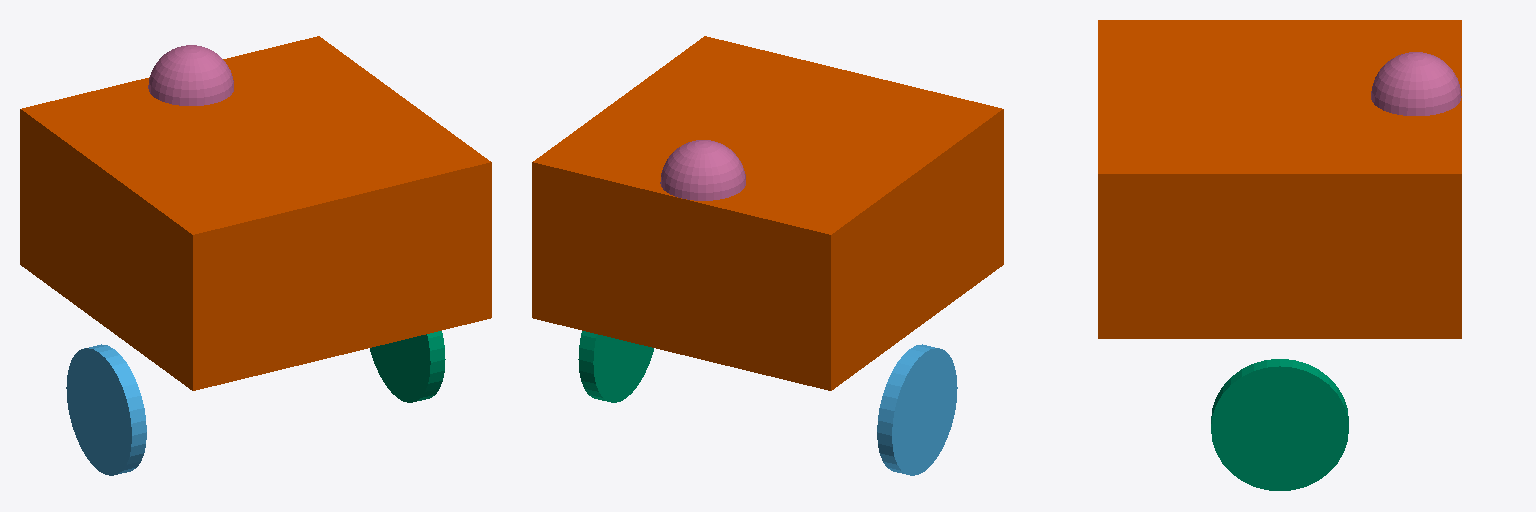
URDF robot description (robot):
<?xml version="1.0" ?>
<!-- =================================================================================== -->
<!-- |    This document was autogenerated by xacro from src/urdf_simulate/urdf/robot.xacro | -->
<!-- |    EDITING THIS FILE BY HAND IS NOT RECOMMENDED                                 | -->
<!-- =================================================================================== -->
<robot name="robot">
  <!-- 1 cm -->
  <!-- 2 cm -->
  <!-- 15.2 cm -->
  <!-- 30 cm -->
  <!-- <xacro:property name="telescopic_rod_radius" value="0.03" /> -->
  <!-- 20 cm -->
  <!-- Base Link -->
  <link name="base_link">
    <!-- <visual>
            <geometry>
                <box size="${chassis_width} ${chassis_length} ${chassis_height}" />
            </geometry>
            <material name="gray" />
        </visual> -->
    <!-- no collision box -->
  </link>
  <!-- Four Wheels -->
  <link name="wheel_left">
    <visual>
      <geometry>
        <cylinder length="0.02" radius="0.076"/>
      </geometry>
      <material name="black"/>
    </visual>
    <collision>
      <geometry>
        <cylinder length="0.02" radius="0.076"/>
      </geometry>
    </collision>
    <inertial>
      <mass value="1.0"/>
      <origin xyz="0 0 0"/>
      <inertia ixx="0.01" ixy="0.0" ixz="0.0" iyy="0.01" iyz="0.0" izz="0.01"/>
    </inertial>
  </link>
  <link name="wheel_right">
    <visual>
      <geometry>
        <cylinder length="0.02" radius="0.076"/>
      </geometry>
      <material name="black"/>
    </visual>
    <collision>
      <geometry>
        <cylinder length="0.02" radius="0.076"/>
      </geometry>
    </collision>
    <inertial>
      <mass value="1.0"/>
      <origin xyz="0 0 0"/>
      <inertia ixx="0.01" ixy="0.0" ixz="0.0" iyy="0.01" iyz="0.0" izz="0.01"/>
    </inertial>
  </link>
  <!-- Joints for Wheels -->
  <joint name="joint_wheel_left" type="continuous">
    <parent link="base_link"/>
    <child link="wheel_left"/>
    <origin rpy="0 -1.570796326795 0" xyz="-0.2 0 -0.005"/>
    <axis xyz="0 0 1"/>
  </joint>
  <joint name="joint_wheel_right" type="continuous">
    <parent link="base_link"/>
    <child link="wheel_right"/>
    <origin rpy="0 -1.570796326795 0" xyz="0.2 0 -0.005"/>
    <axis xyz="0 0 1"/>
  </joint>
  <link name="caster_forward">
    <!-- <visual>
            <geometry>
                <sphere radius="${caster_radius}" />
            </geometry>
            <origin xyz="0 0 0" rpy="0 0 0" />
            <material name="green" />
        </visual> -->
    <collision>
      <origin rpy="0 0 0" xyz="0 0 0"/>
      <geometry>
        <sphere radius="0.03"/>
      </geometry>
    </collision>
    <!-- <inertial>
            <mass value="0.5" />
            <inertia ixx="3.000e-4" iyy="3.000e-4" izz="3.000e-4" ixy="0" ixz="0" iyz="0" />
        </inertial> -->
  </link>
  <link name="caster_backward">
    <!-- <visual>
            <geometry>
                <sphere radius="${caster_radius}" />
            </geometry>
            <origin xyz="0 0 0" rpy="0 0 0" />
            <material name="green" />
        </visual> -->
    <collision>
      <origin rpy="0 0 0" xyz="0 0 0"/>
      <geometry>
        <sphere radius="0.03"/>
      </geometry>
    </collision>
    <!-- <inertial>
            <mass value="0.5" />
            <inertia ixx="3.000e-4" iyy="3.000e-4" izz="3.000e-4" ixy="0" ixz="0" iyz="0" />
        </inertial> -->
  </link>
  <joint name="caster_forward_joint" type="fixed">
    <origin rpy="0 0 0" xyz="0 0.17 -0.051000000000000004"/>
    <parent link="base_link"/>
    <child link="caster_forward"/>
  </joint>
  <joint name="caster_backward_joint" type="fixed">
    <origin rpy="0 0 0" xyz="0 -0.17 -0.051000000000000004"/>
    <parent link="base_link"/>
    <child link="caster_backward"/>
  </joint>
  <!-- Telescopic Rod -->
  <!-- <link name="telescopic_rod">
        <visual>
            <geometry>
                <cylinder radius="${telescopic_rod_radius}" length="${max_lift_height}" />
            </geometry>
            <material name="silver" />
        </visual>
        <collision>
            <geometry>
                <cylinder radius="${telescopic_rod_radius}" length="${max_lift_height}" />
            </geometry>
        </collision>
        <inertial>
            <mass value="0.5" />
            <origin xyz="0 0 0" />
            <inertia ixx="0.001" ixy="0.0" ixz="0.0" iyy="0.001" iyz="0.0" izz="0.001" />
        </inertial>
    </link> -->
  <!-- Joint for Telescopic Rod -->
  <!-- <joint name="joint_telescopic_rod" type="fixed">
        <parent link="base_link" />
        <child link="telescopic_rod" />
        <origin xyz="0 0 ${(chassis_height+max_lift_height)/2}" />
    </joint> -->
  <!-- Body Link on Top of Telescopic Rod -->
  <link name="body_top">
    <visual>
      <geometry>
        <box size="0.4 0.4 0.2"/>
      </geometry>
      <material name="blue"/>
    </visual>
    <collision>
      <geometry>
        <box size="0.4 0.4 0.2"/>
      </geometry>
    </collision>
    <inertial>
      <mass value="2.0"/>
      <origin xyz="0 0 0"/>
      <inertia ixx="0.02" ixy="0.0" ixz="0.0" iyy="0.02" iyz="0.0" izz="0.02"/>
    </inertial>
  </link>
  <joint name="joint_body_top" type="prismatic">
    <parent link="base_link"/>
    <child link="body_top"/>
    <origin xyz="0 0 0.05000000000000002"/>
    <axis xyz="0 0 1"/>
    <limit effort="10.0" lower="0.05000000000000002" upper="0.24999999999999997" velocity="0.05"/>
    <!-- 10 cm to 30 cm -->
  </joint>
  <link name="body_top_semantic">
    <visual>
      <geometry>
        <sphere radius="0.05"/>
      </geometry>
      <material name="black"/>
    </visual>
    <collision>
      <geometry>
        <sphere radius="0.05"/>
      </geometry>
    </collision>
  </link>
  <joint name="joint_body_top_semantic" type="fixed">
    <parent link="body_top"/>
    <child link="body_top_semantic"/>
    <origin xyz="0 0.15000000000000002 0.1"/>
  </joint>
  <!-- Transmission for the wheels -->
  <transmission name="trans_wheel_left">
    <type>transmission_interface/SimpleTransmission</type>
    <joint name="joint_wheel_left">
      <hardwareInterface>hardware_interface/VelocityJointInterface</hardwareInterface>
    </joint>
    <actuator name="actuator_wheel_left">
      <mechanicalReduction>1</mechanicalReduction>
    </actuator>
  </transmission>
  <transmission name="trans_wheel_right">
    <type>transmission_interface/SimpleTransmission</type>
    <joint name="joint_wheel_right">
      <hardwareInterface>hardware_interface/VelocityJointInterface</hardwareInterface>
    </joint>
    <actuator name="actuator_wheel_right">
      <mechanicalReduction>1</mechanicalReduction>
    </actuator>
  </transmission>
  <transmission name="trans_telescopic_rod">
    <type>transmission_interface/SimpleTransmission</type>
    <joint name="joint_telescopic_rod">
      <hardwareInterface>hardware_interface/PositionJointInterface</hardwareInterface>
    </joint>
    <actuator name="actuator_telescopic_rod">
      <mechanicalReduction>1</mechanicalReduction>
    </actuator>
  </transmission>
  <!-- Gazebo plugin for differential drive control -->
  <gazebo>
    <plugin filename="libgazebo_ros_diff_drive.so" name="gazebo_ros_diff_drive">
      <ros>
        <namespace>/my_robot</namespace>
        <remapping>cmd_vel:=cmd_vel</remapping>
      </ros>
      <updateRate>50</updateRate>
      <leftJoint>joint_wheel_left</leftJoint>
      <rightJoint>joint_wheel_right</rightJoint>
      <wheelSeparation>0.4</wheelSeparation>
      <wheelDiameter>0.152</wheelDiameter>
      <torque>5</torque>
    </plugin>
  </gazebo>
  <gazebo reference="base_link">
    <material>Gazebo/Grey</material>
  </gazebo>
  <gazebo reference="wheel_left">
    <material>Gazebo/DarkGrey</material>
  </gazebo>
  <gazebo reference="wheel_right">
    <material>Gazebo/DarkGrey</material>
  </gazebo>
  <gazebo reference="telescopic_rod">
    <material>Gazebo/White</material>
  </gazebo>
  <gazebo reference="body_top">
    <material>Gazebo/DarkYellow </material>
  </gazebo>
  <gazebo reference="body_top_semantic">
    <material>Gazebo/FlatBlack</material>
  </gazebo>
  <gazebo reference="caster_forward">
    <mu1 value="0.0"/>
    <mu2 value="0.0"/>
  </gazebo>
  <gazebo reference="caster_backward">
    <mu1 value="0.0"/>
    <mu2 value="0.0"/>
  </gazebo>
</robot>

--- What the picture shows (computed from the rendered views, not written in the file) ---
3 views of the same robot in one strip: view 1: azimuth 30°, elevation 25°; view 2: azimuth 150°, elevation 25°; view 3: azimuth 270°, elevation 25° (orthographic).
Robot: robot — 7 links, 6 joints (2 continuous, 1 prismatic, 3 fixed); root link base_link; default pose: joints at zero except 1 at the middle of their limits (joint_body_top = 0.15).
Links seen in each view (by area): view 1: body_top, wheel_left, body_top_semantic, wheel_right; view 2: body_top, wheel_left, body_top_semantic, wheel_right; view 3: body_top, wheel_right, body_top_semantic.
Boxes of the visible links, box(x1,y1,x2,y2) form: body_top: box(20, 36, 491, 390); wheel_left: box(66, 344, 146, 475); body_top_semantic: box(148, 45, 233, 105); wheel_right: box(370, 331, 445, 402); body_top: box(532, 36, 1003, 390); wheel_left: box(877, 344, 957, 475); body_top_semantic: box(660, 140, 745, 200); wheel_right: box(578, 331, 653, 402); body_top: box(1098, 20, 1461, 338); wheel_right: box(1211, 359, 1348, 490); body_top_semantic: box(1371, 52, 1461, 115).
Bounding box of the posed robot: 0.42 × 0.4 × 0.431 m (x, y, z).
Geometry: primitives only (box / cylinder / sphere), no mesh files.